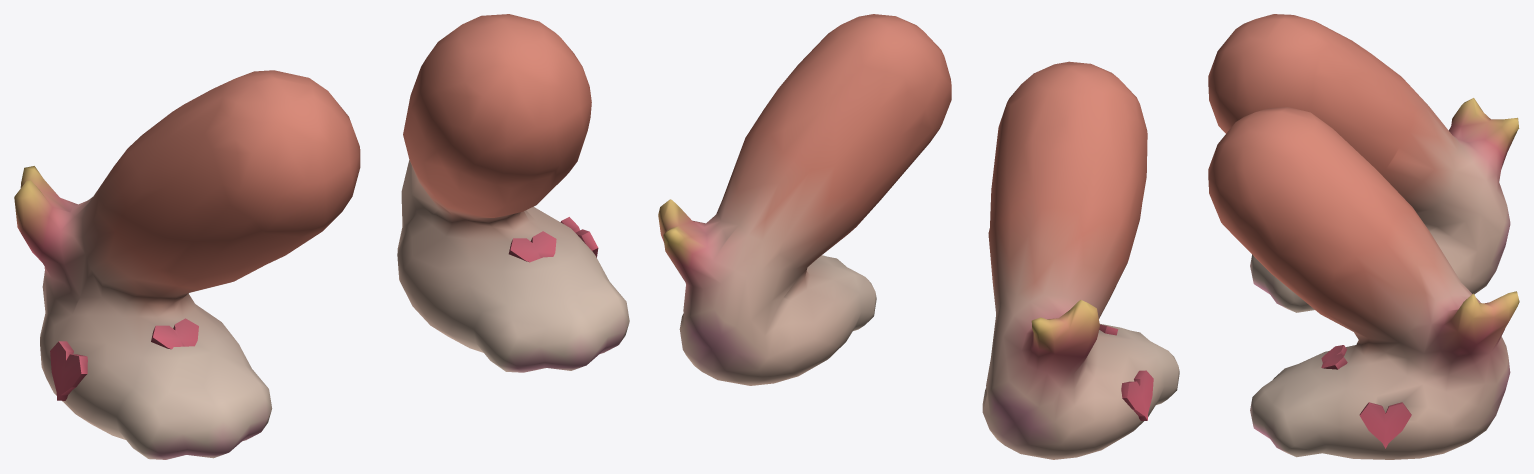
The model's file is fire-hind-paws.glb.
The picture shows the model from 3 angles, left to right: view 1: azimuth 30°, elevation 25°; view 2: azimuth 150°, elevation 25°; view 3: azimuth 270°, elevation 25°; orthographic projection. The views are drawn at different scales.
Visible parts, largest first — view 1: fire-hind-paws; view 2: fire-hind-paws; view 3: fire-hind-paws.
Boxes of the visible parts, bbox=[...] form: fire-hind-paws: bbox=[14, 14, 629, 459]; fire-hind-paws: bbox=[658, 14, 1179, 459]; fire-hind-paws: bbox=[1208, 14, 1519, 459].
Size of the model in its own units: 0.3201 by 0.2078 by 0.1952.
